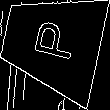P_W: (26, 20, 78, 67)
